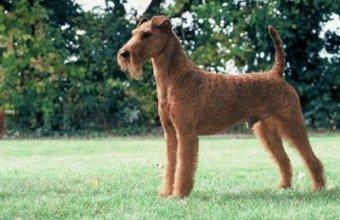wire-haired_fox_terrier: (113, 14, 329, 202)
